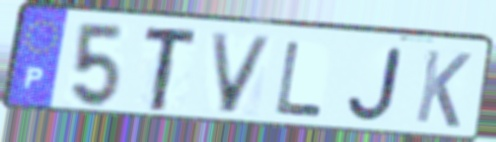5: (67, 21, 125, 110)
J: (344, 44, 406, 124)
K: (411, 46, 474, 131)
L: (273, 38, 326, 119)
T: (141, 27, 203, 114)
V: (207, 30, 277, 117)
